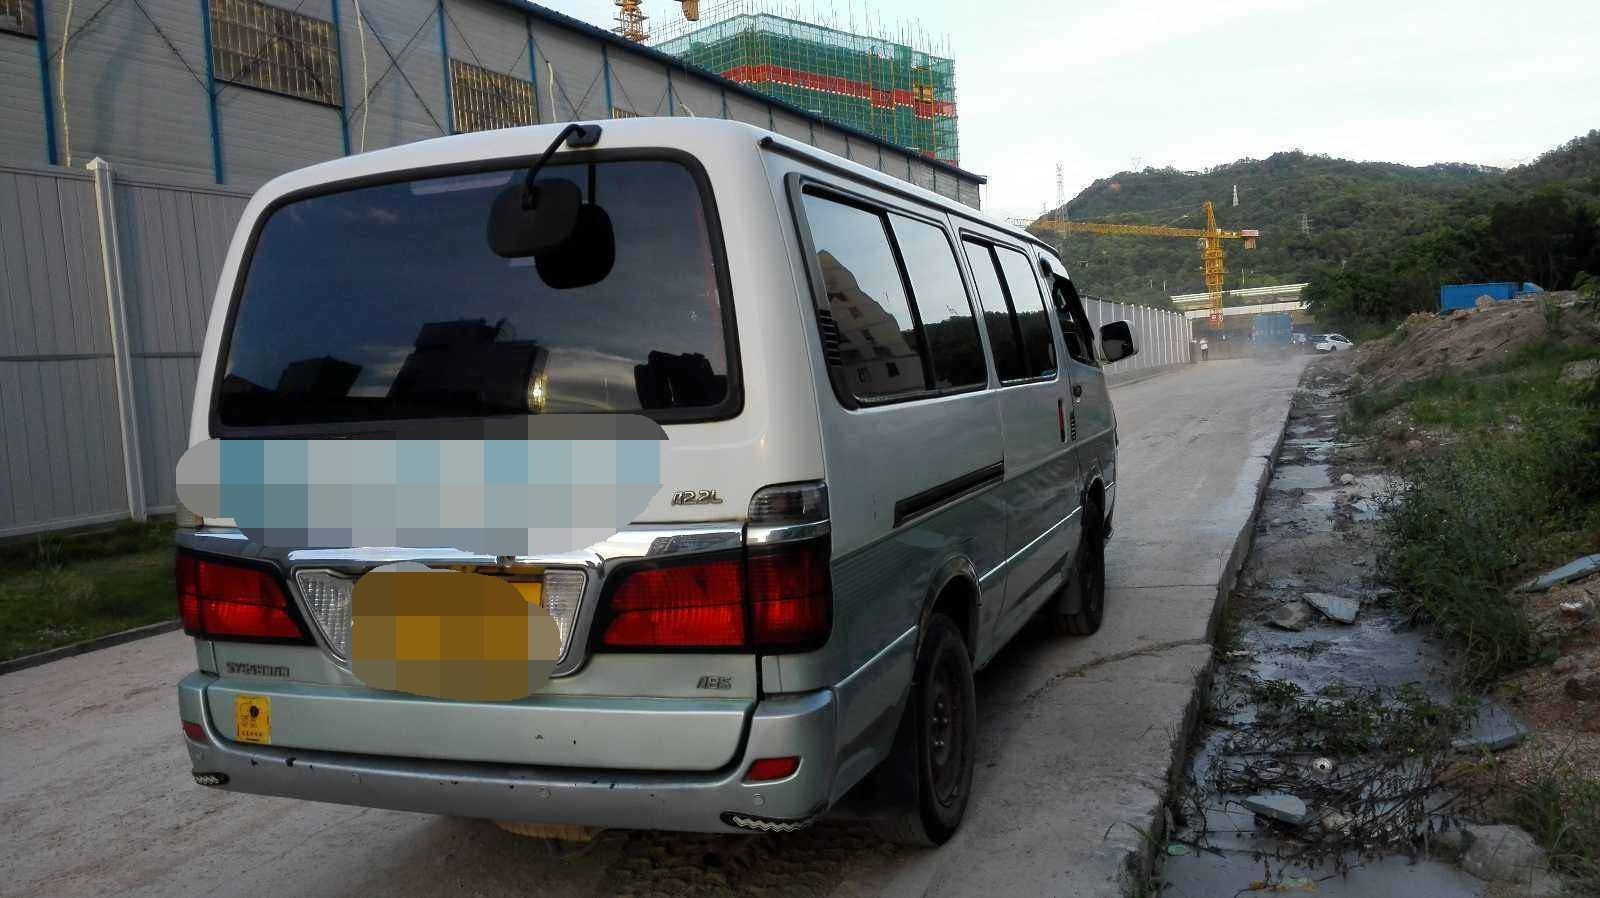minibus: (138, 132, 1165, 861)
